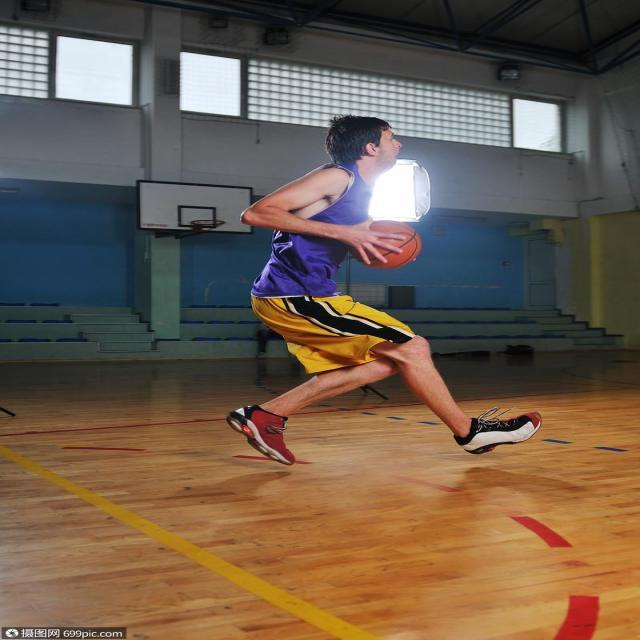rim: (357, 223, 418, 266)
